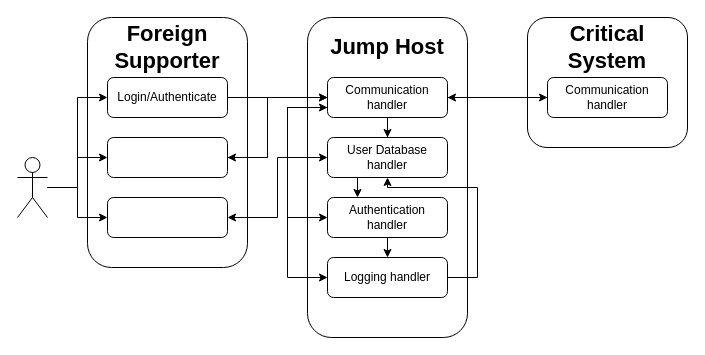
Image size: 705x355. Some labels were removed from this diagram. Here are the shapes that lost their labels. From the top down, the box of each, then its label:
(106, 136, 228, 178): Commands/Actions
(16, 156, 48, 218): Actor
(106, 196, 228, 238): Firewall/VPN
